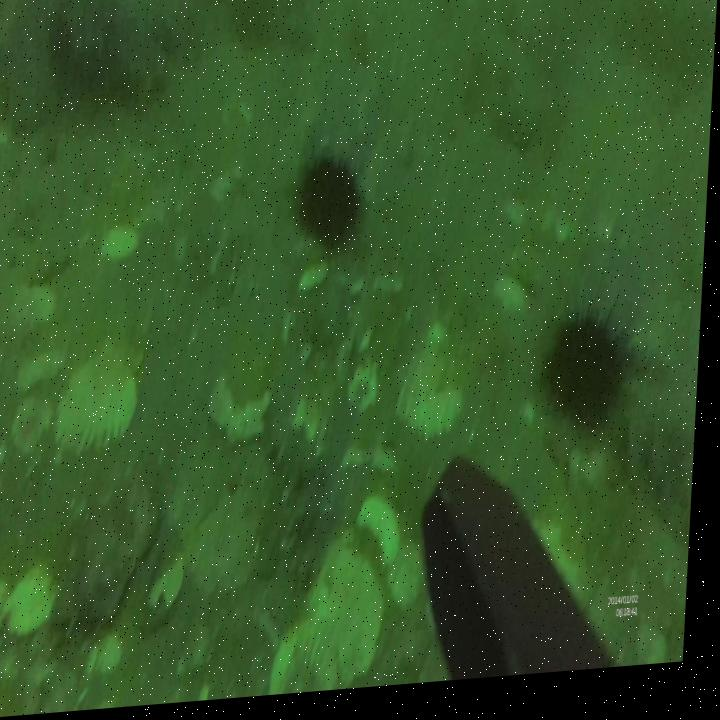echinus: (549, 313, 639, 446), (291, 153, 373, 265)
scallop: (308, 550, 390, 686), (60, 351, 143, 461), (398, 332, 470, 447), (276, 622, 361, 700)
